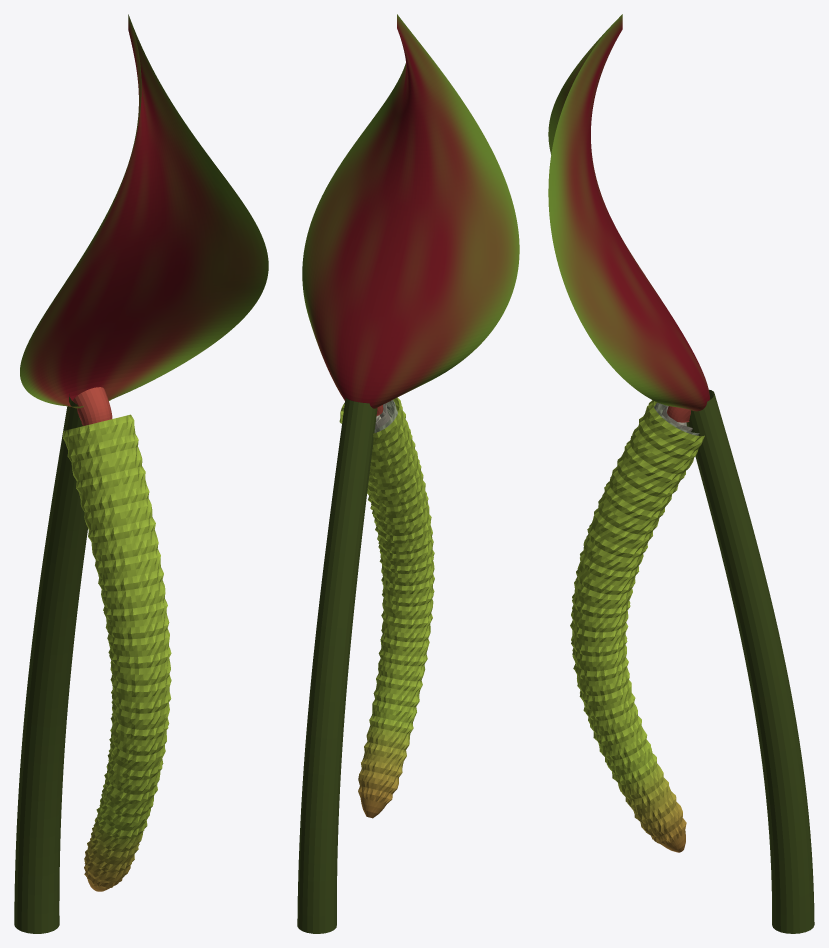
Rendered from anthurium_sanjorgense.obj.
The picture shows the model from 3 angles, left to right: view 1: azimuth 30°, elevation 25°; view 2: azimuth 150°, elevation 25°; view 3: azimuth 270°, elevation 25°; orthographic projection. The views are drawn at different scales.
Parts seen in each view (by area): view 1: Espata_Cuculada, Espadice_Florifero, Pedunculo_Tallo, Estipite_Basal; view 2: Espata_Cuculada, Pedunculo_Tallo, Espadice_Florifero; view 3: Espadice_Florifero, Espata_Cuculada, Pedunculo_Tallo.
Boxes of the visible parts, x1,y1,x2,y2 form: Espata_Cuculada: (20,14,268,408); Espadice_Florifero: (63,414,171,891); Pedunculo_Tallo: (14,394,87,933); Estipite_Basal: (72,387,112,425); Espata_Cuculada: (302,14,519,408); Pedunculo_Tallo: (297,398,377,933); Espadice_Florifero: (339,397,434,818); Espadice_Florifero: (570,400,704,852); Espata_Cuculada: (548,14,709,411); Pedunculo_Tallo: (686,389,814,933).
Size of the model in its own units: 37.39 by 147 by 38.88.
